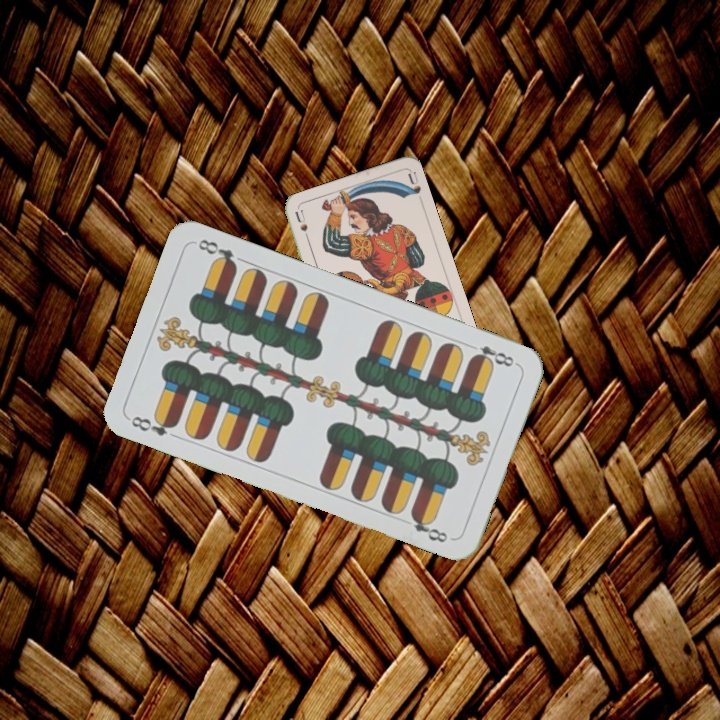E8: (467, 341, 520, 370), (127, 411, 180, 439)
SU: (291, 207, 313, 247)
